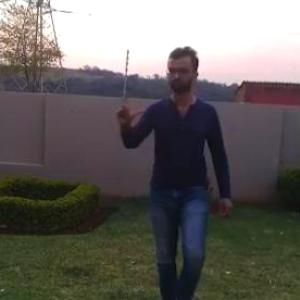land_hand: (115, 83, 151, 126)
